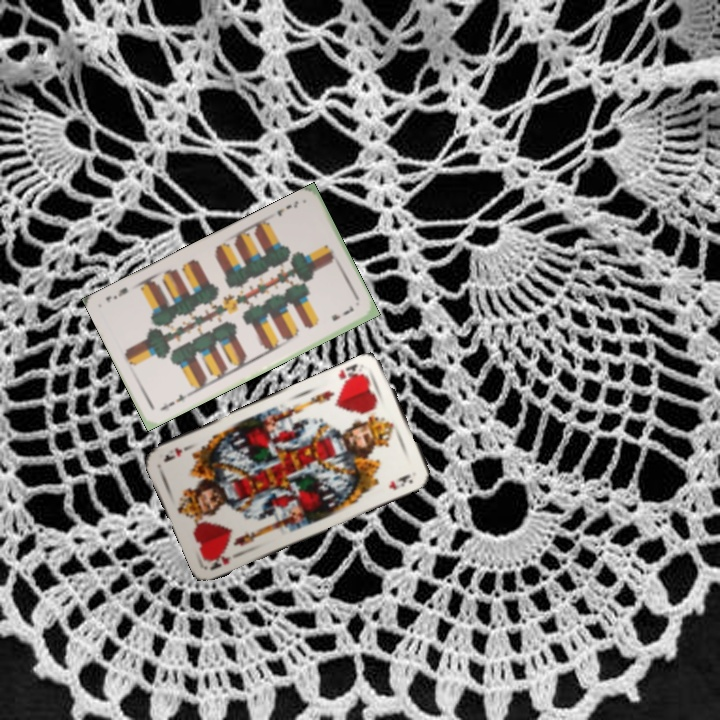E7: (156, 390, 192, 414), (273, 197, 301, 219)
HK: (204, 547, 244, 573), (334, 360, 367, 387)
